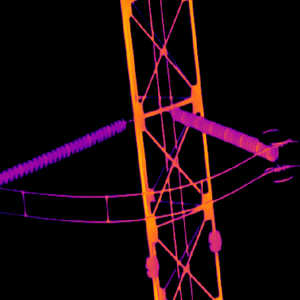insulator: (0, 115, 126, 185), (169, 103, 279, 162)
